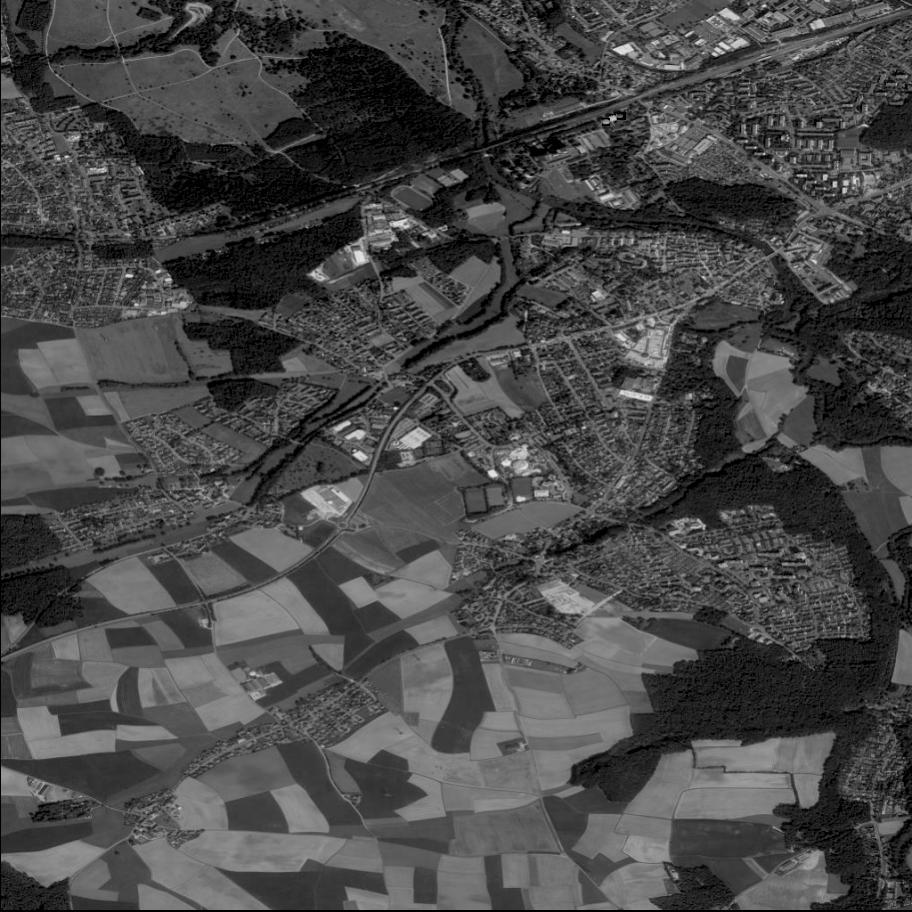storage-tank: (610, 115, 618, 124), (602, 118, 610, 126), (618, 113, 626, 120)
